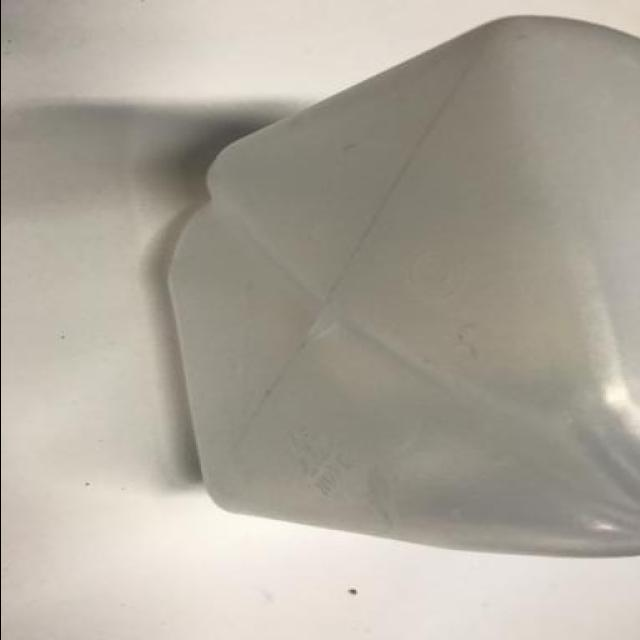HDPEM: (162, 12, 638, 558)
